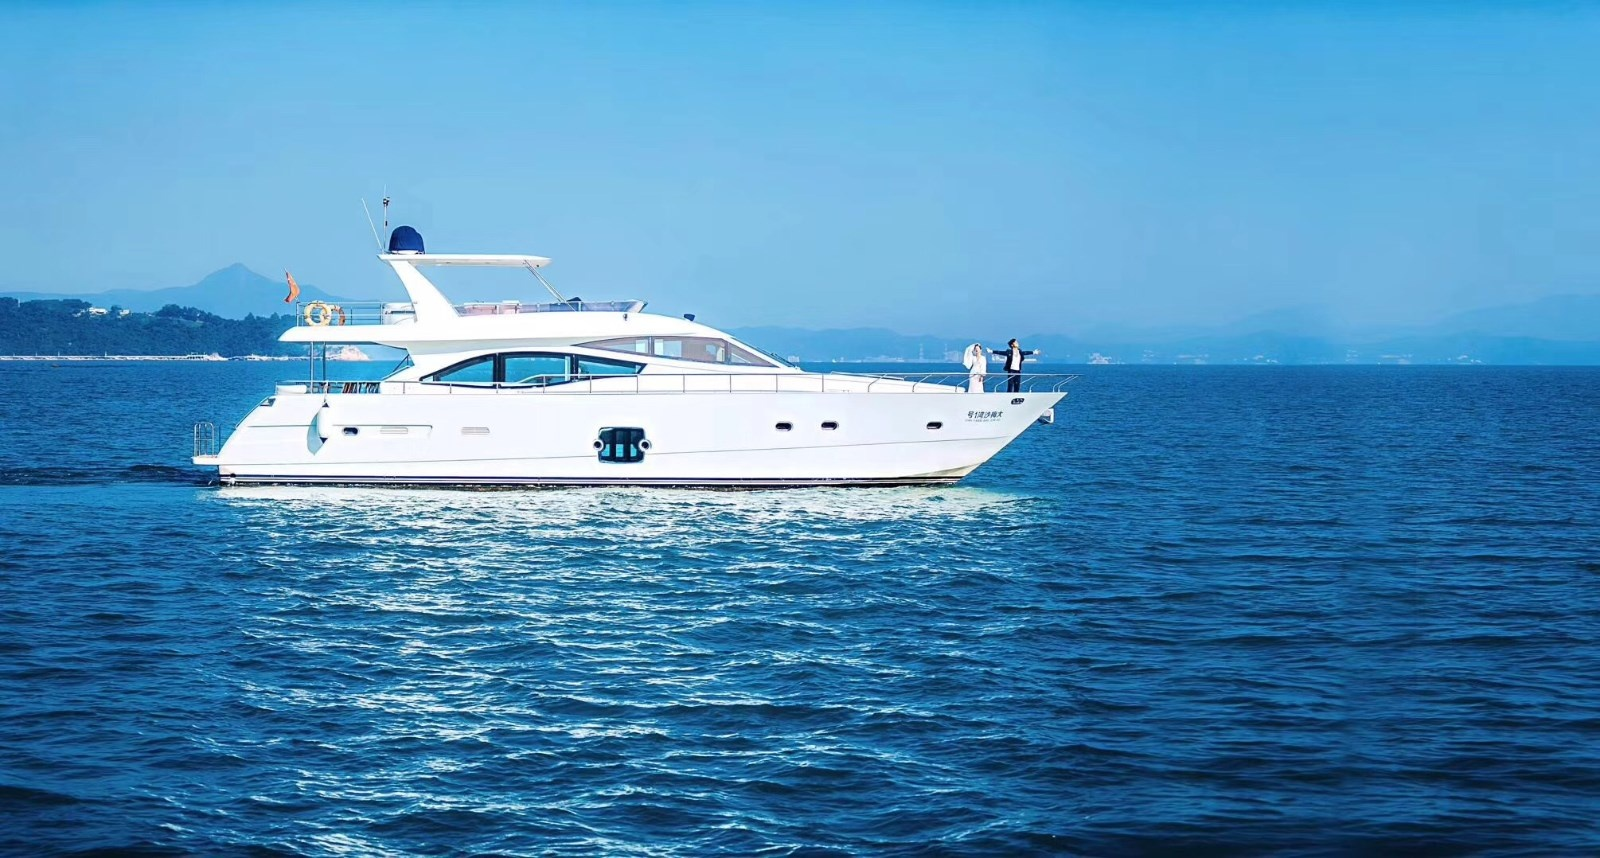person: (990, 337, 1039, 397), (961, 336, 994, 392)
yacht: (170, 211, 1073, 490)
